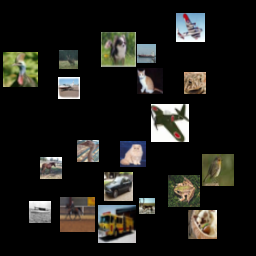airplane: (151, 104, 189, 142), (176, 13, 205, 42), (58, 77, 80, 99)
automobile: (104, 172, 133, 201)
bird: (3, 52, 38, 87), (202, 154, 234, 186), (77, 140, 99, 162)
cat: (137, 68, 163, 94), (120, 141, 146, 167)
deer: (59, 50, 78, 69), (139, 198, 155, 214)
dog: (101, 32, 136, 67), (188, 210, 217, 239)
frog: (168, 175, 200, 207), (184, 72, 206, 94)
ship: (29, 201, 51, 223), (137, 44, 156, 63)
